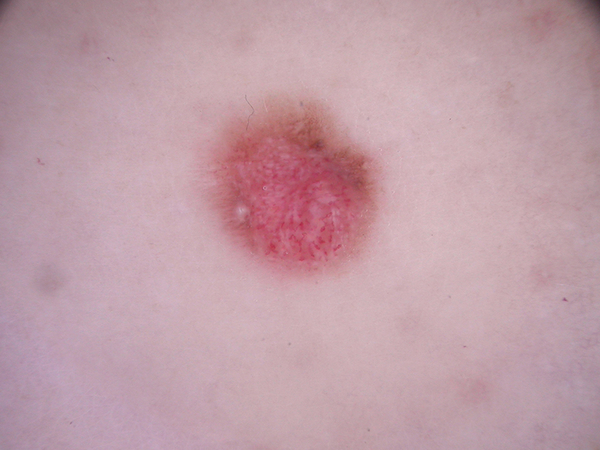Detected Lesion: (198, 96, 393, 271)
